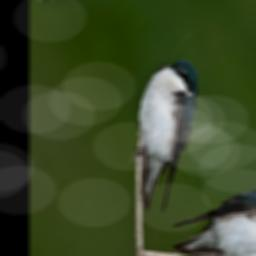Swallow: (94, 40, 239, 224)
